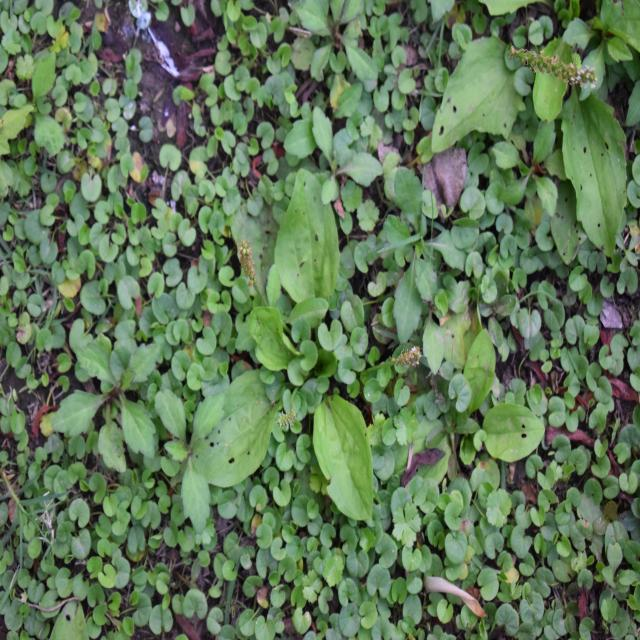plantain: (199, 201, 395, 486)
